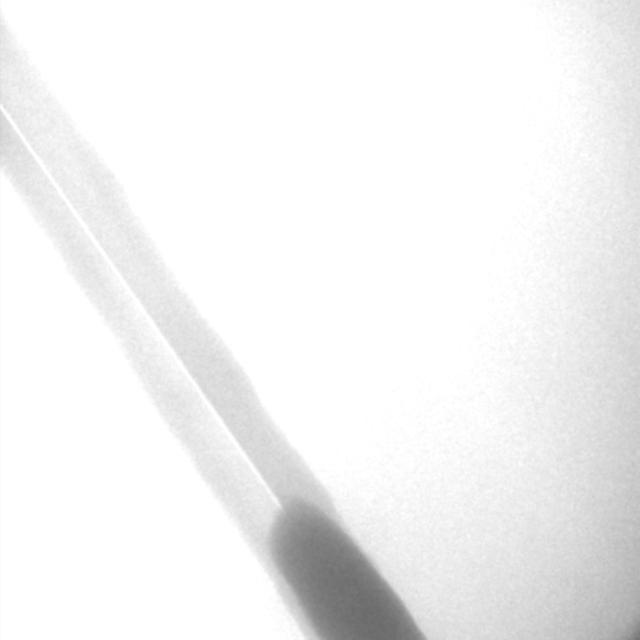broken arc: (2, 107, 282, 510)
